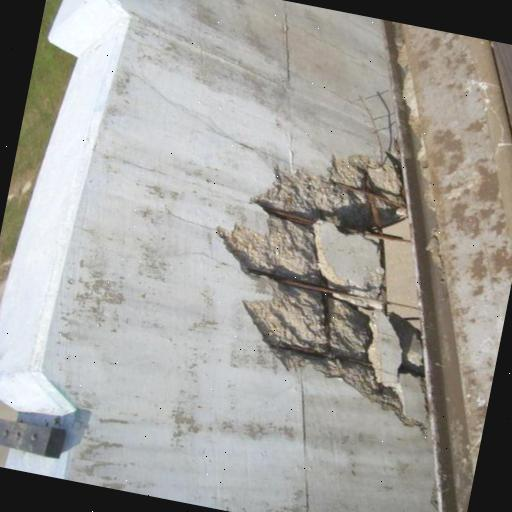spalling: (212, 150, 428, 437)
